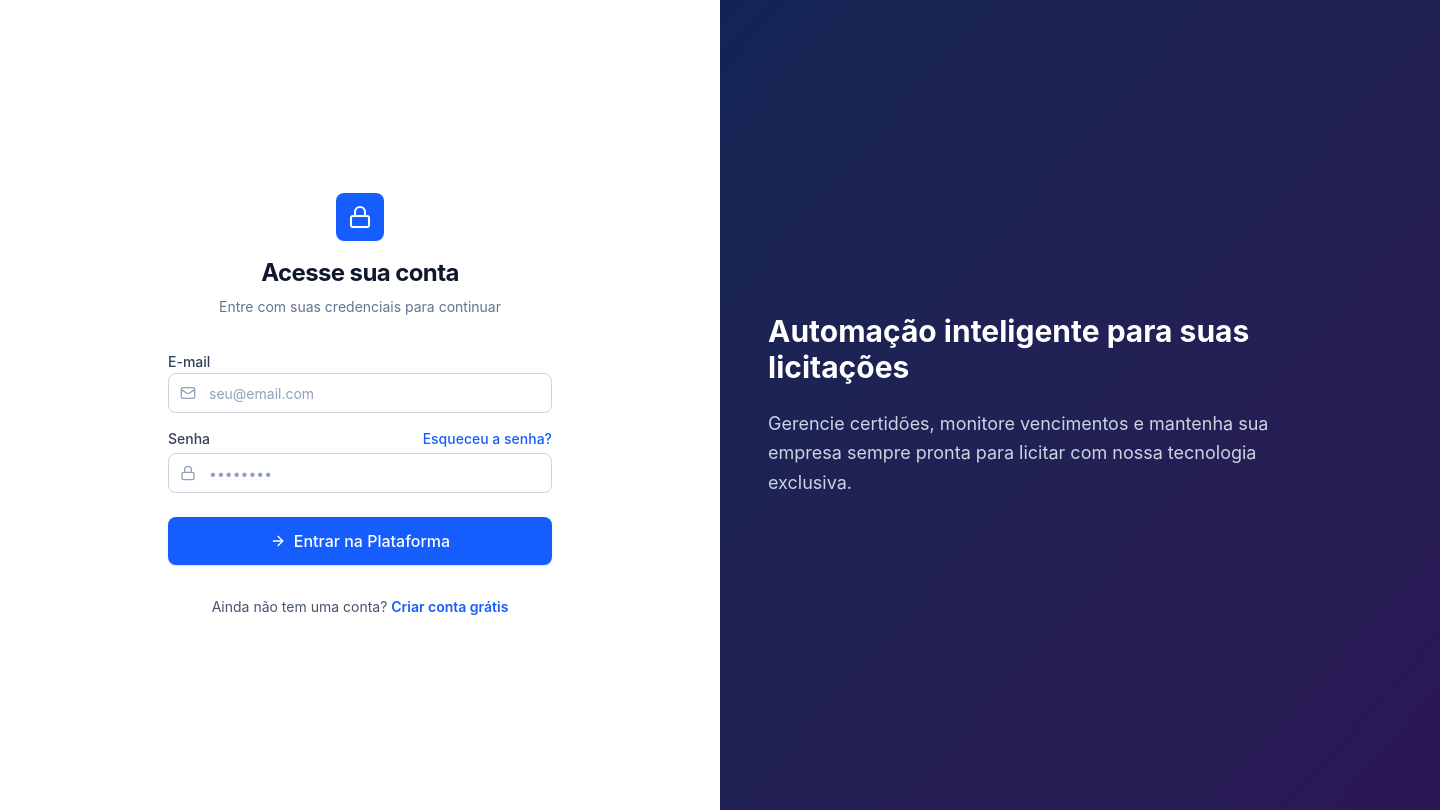
Scenario: LoginPage Integration › deve exibir erros de validação do Zod se os campos estiverem vazios
This screenshot has width=1440, height=810.
Click the button "Entrar na Plataforma" at point(360, 541), box [168, 517, 552, 565]
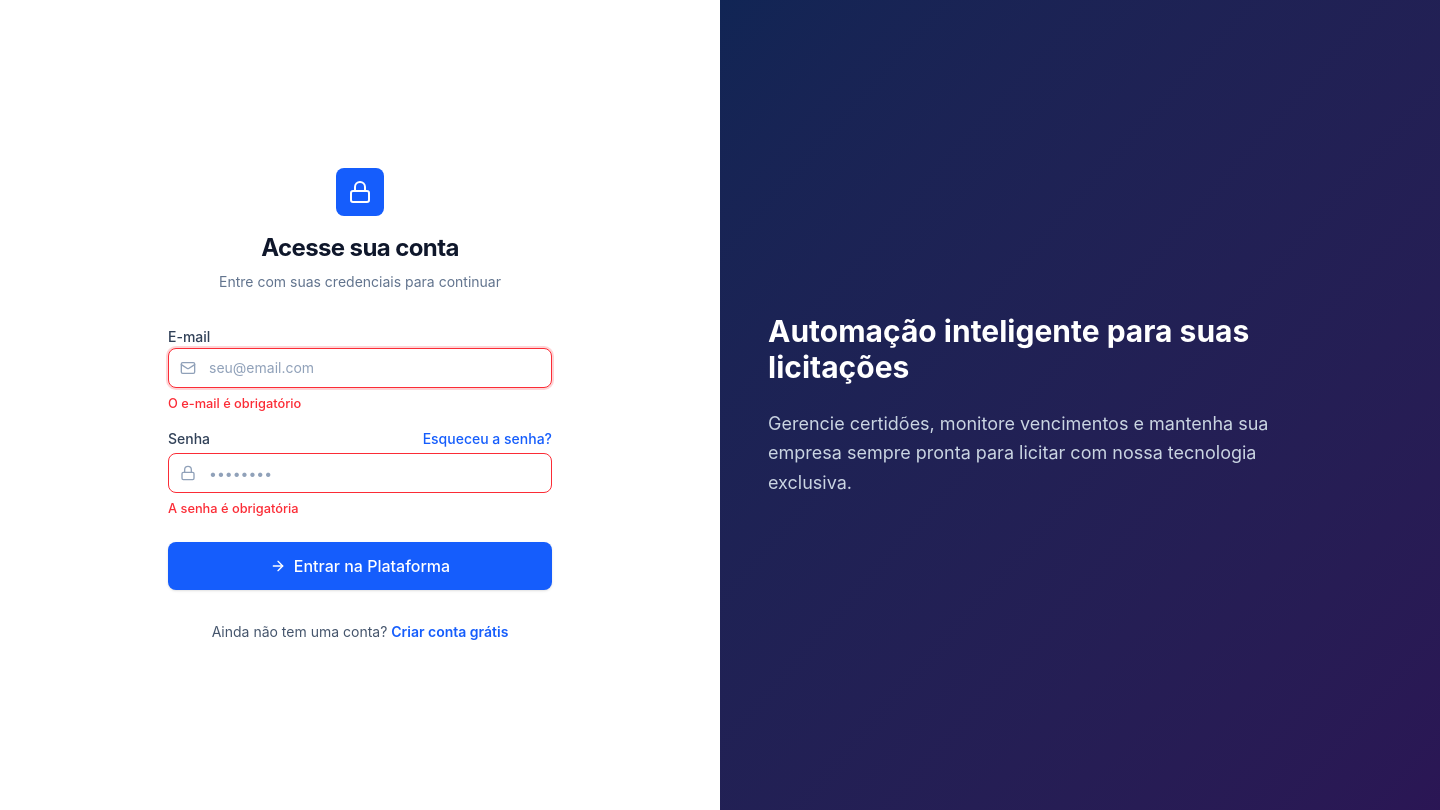
Check: the text "O e-mail é obrigatório" is shown, box [168, 396, 301, 411]
Check: the text "A senha é obrigatória" is shown, box [168, 501, 298, 516]
